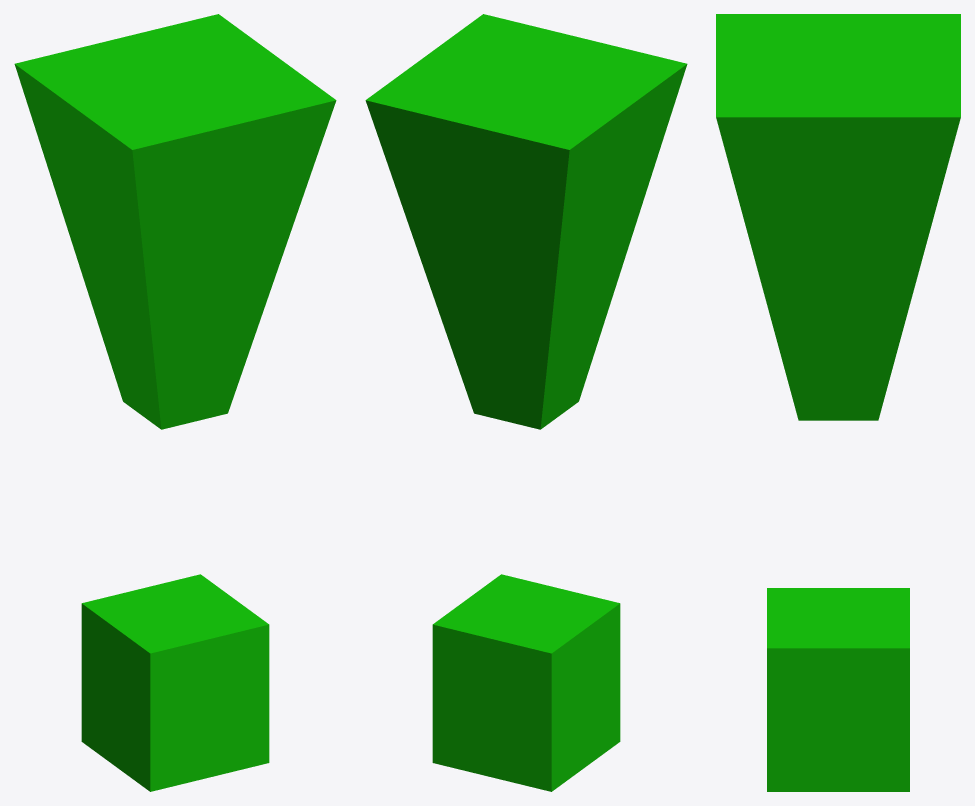
File: ExclamationPoint.fbx
3 views of the same model, side by side, from view 1: azimuth 30°, elevation 25°; view 2: azimuth 150°, elevation 25°; view 3: azimuth 270°, elevation 25° (orthographic). The views are drawn at different scales.
Visible parts, largest first — view 1: Cube; view 2: Cube; view 3: Cube.
Part boxes in pixels (left/top/right/bottom): Cube: left=14, top=14, right=336, bottom=791; Cube: left=365, top=14, right=687, bottom=791; Cube: left=716, top=14, right=960, bottom=791.
Size of the model in its own units: 27.66 by 27.66 by 86.79.
